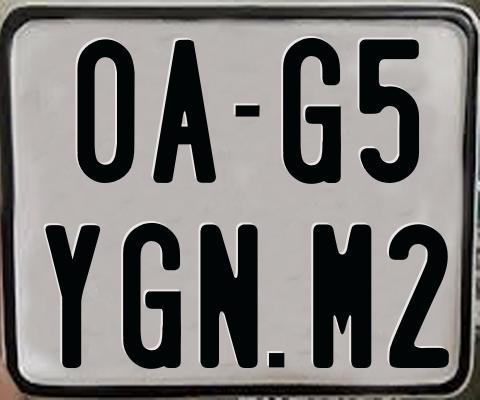0: (74, 38, 132, 186)
2: (389, 223, 451, 373)
5: (356, 38, 417, 183)
A: (150, 37, 213, 186)
G: (121, 222, 185, 373), (280, 36, 339, 185)
M: (313, 223, 378, 369)
N: (199, 224, 261, 368)
Y: (43, 223, 99, 368)
